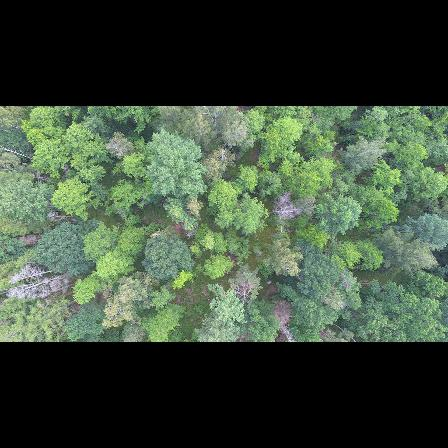Dead: (6, 274, 65, 296), (270, 189, 298, 234), (271, 301, 298, 339), (4, 266, 52, 285), (41, 282, 76, 298)
Sick: (230, 276, 254, 306)
